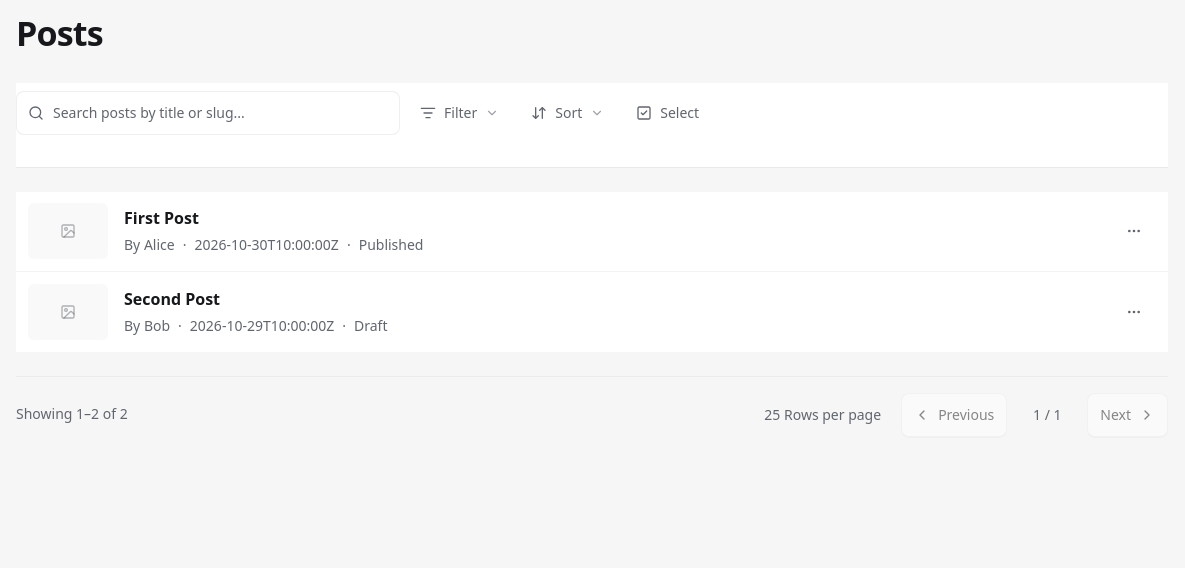
Test: Editorial Selection System — Posts and Pages lifecycle & stability › PostsList selection lifecycle › clears selections and keeps post count visible when filters change, keeping selection mode active
Click the button "Select".
click(668, 112)  # box [624,90,711,134]
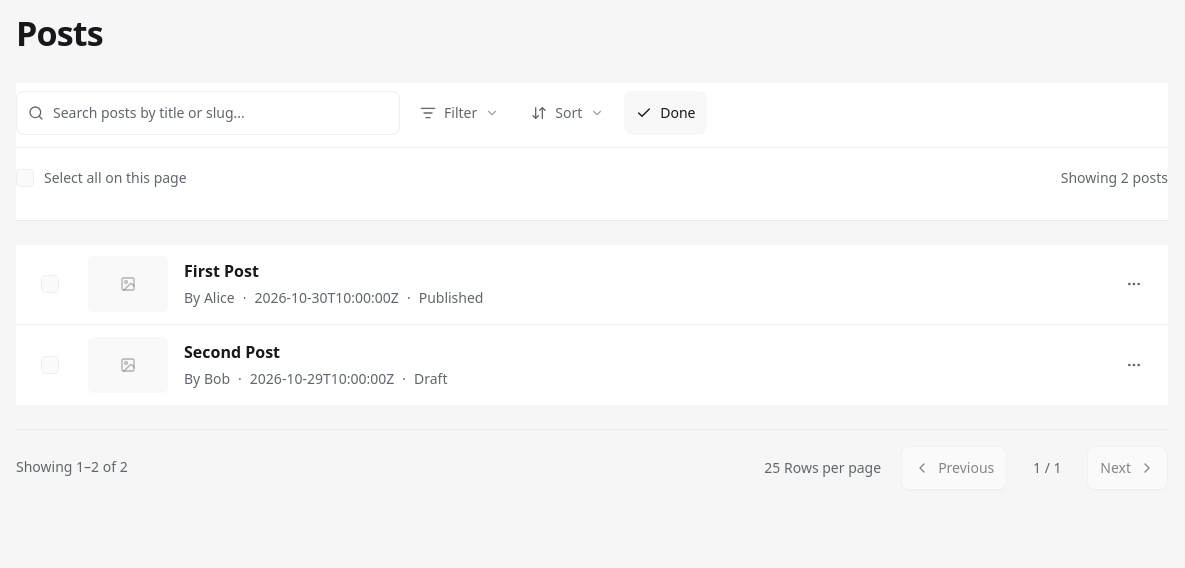
Note: Select first post
Click the heading "First Post".
click(221, 271)  # box [184,260,259,282]
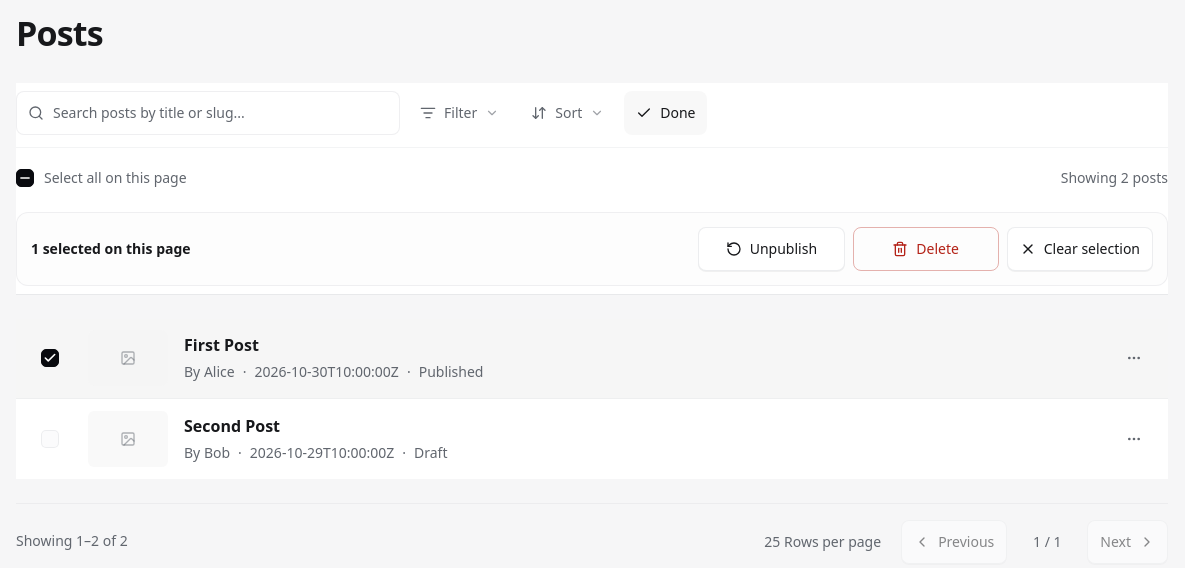
Now the element named "Bulk actions" is shown, box [16,212,1168,286]
Click the button "Filter".
click(460, 112)  # box [408,90,511,134]
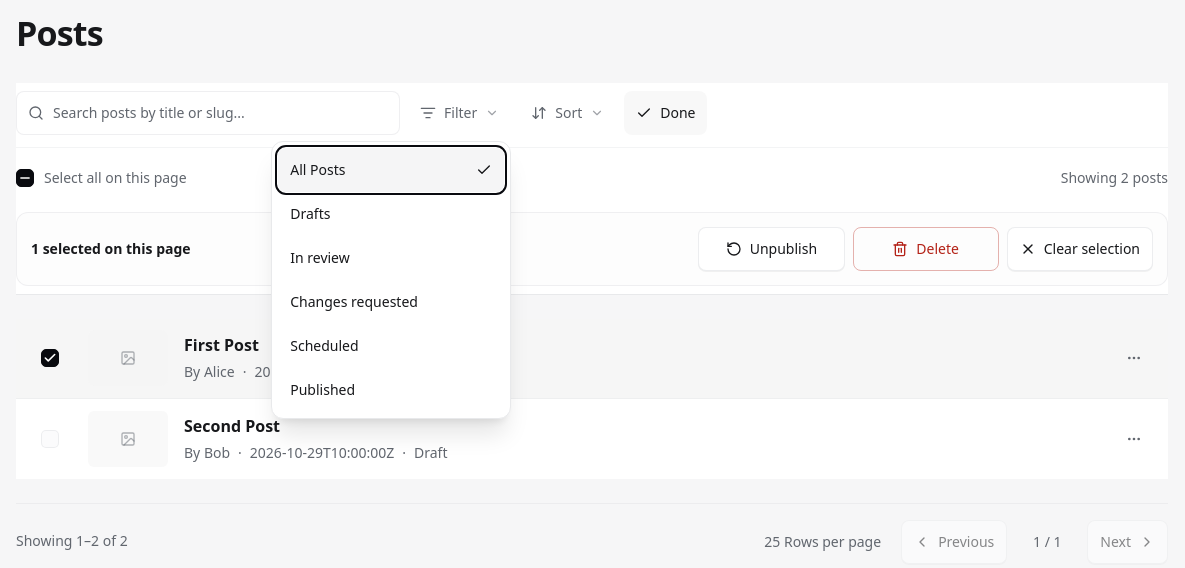
Click the menu item "Drafts".
click(391, 214)  # box [278,192,504,236]
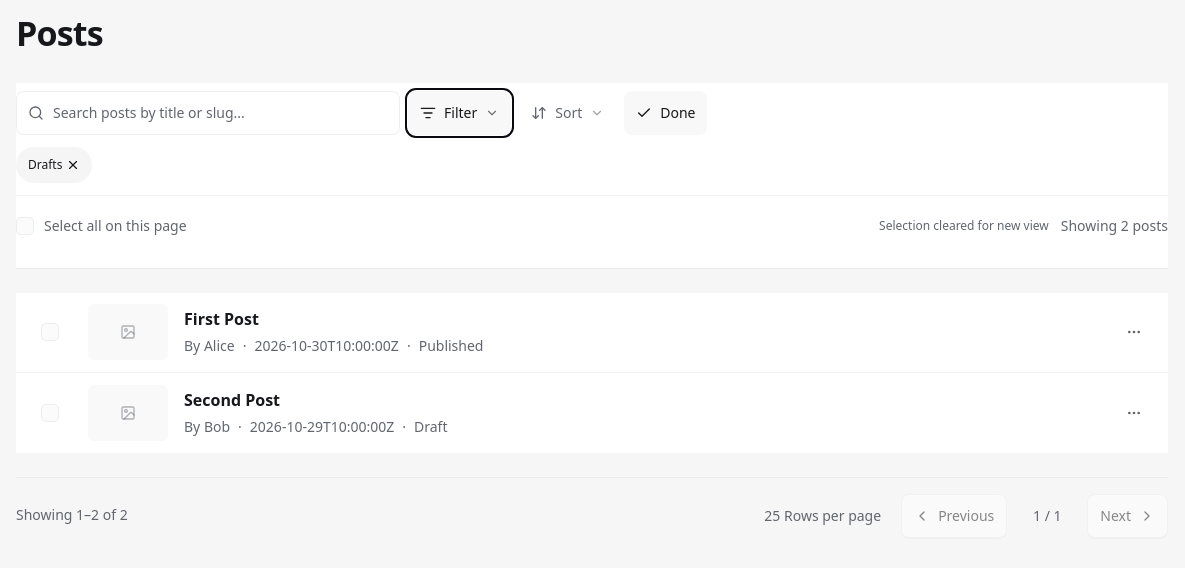
Expected: the button "Done" is shown, [624,90,708,134]
Now the text "Showing 2 posts" is shown, box [1061,216,1168,236]
Now the text "Selection cleared for new view" is shown, box [879,218,1049,234]
